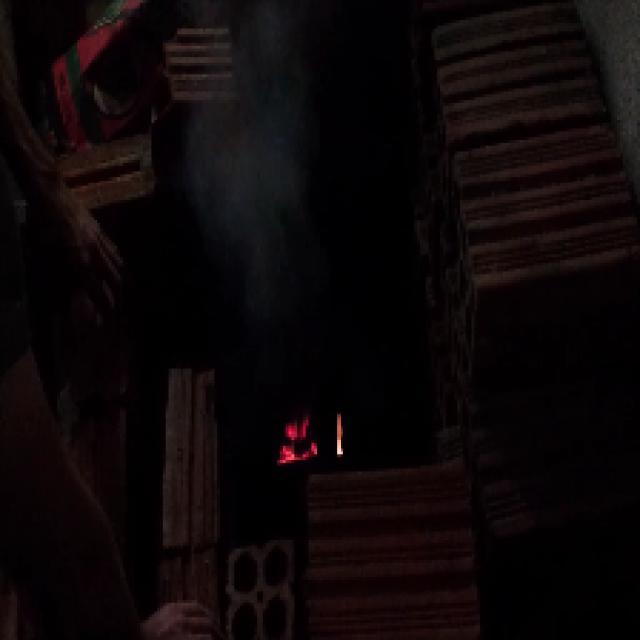Fire: (282, 422, 353, 466)
Smoke: (206, 31, 305, 294)
